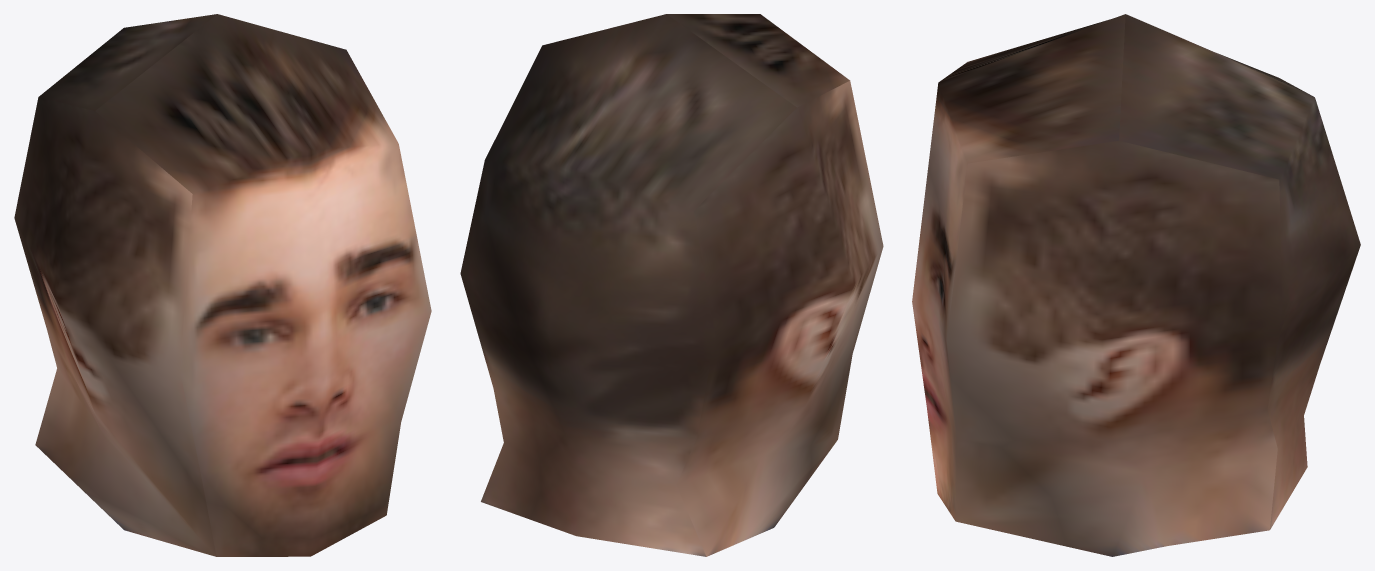
File: head.fbx
3 views of the same model, side by side, from view 1: azimuth 30°, elevation 25°; view 2: azimuth 150°, elevation 25°; view 3: azimuth 270°, elevation 25° (orthographic).
Parts seen in each view (by area): view 1: Cube.001; view 2: Cube.001; view 3: Cube.001.
Part boxes in pixels (x1,y1,x2,y2): Cube.001: [14, 14, 431, 556]; Cube.001: [460, 14, 883, 556]; Cube.001: [912, 14, 1360, 556].
Bounding box in the file's own units: 64.03 × 87.41 × 71.12.
Materials: 1 (1 with a texture image).
